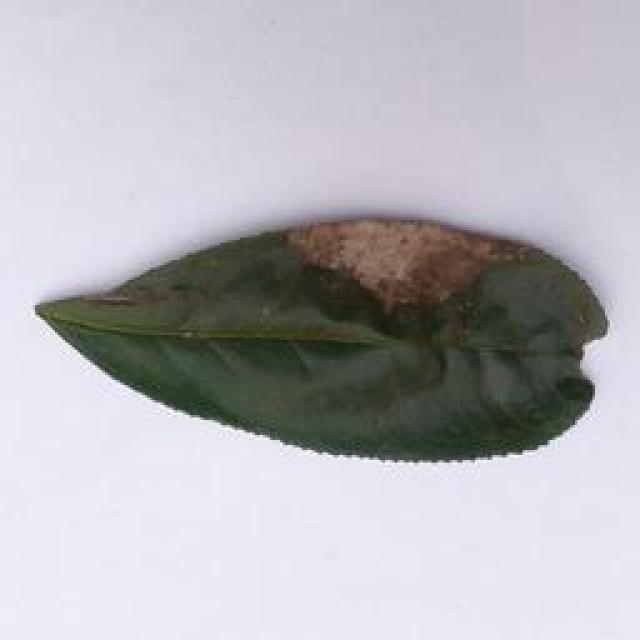Gray Blight: (31, 207, 640, 485)
